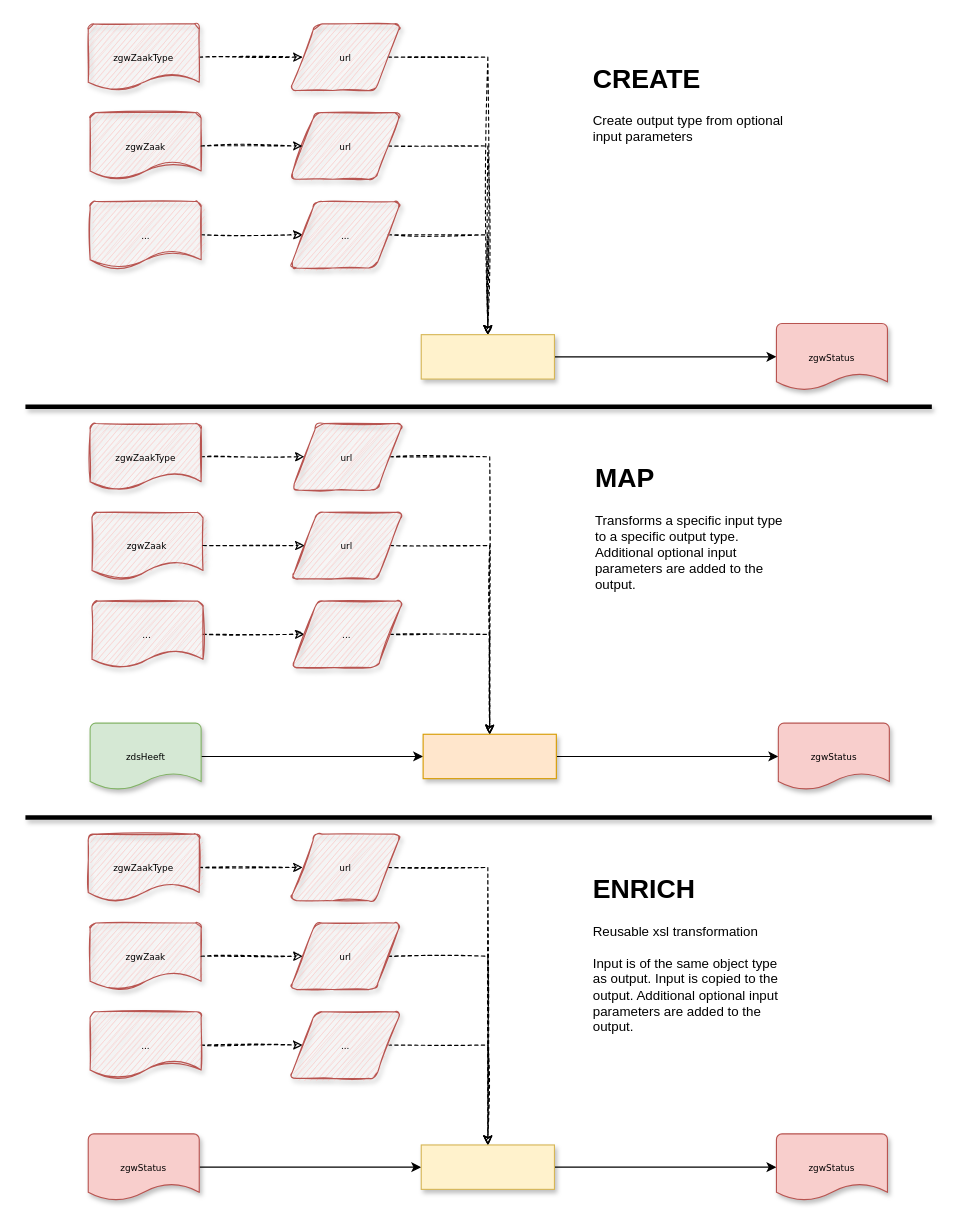
Some shapes in this 960 by 1228 pixel diagram are drawn without their labels. The shapes that lost their labels are listed below. From the top down, each one's centre as x and y in pixels, then its label:
At point (488, 358): "CREATE zgwStatus".
At point (490, 757): "MAP zdsHeeft zgwStatus".
At point (488, 1168): "ENRICH zgwStatus".
